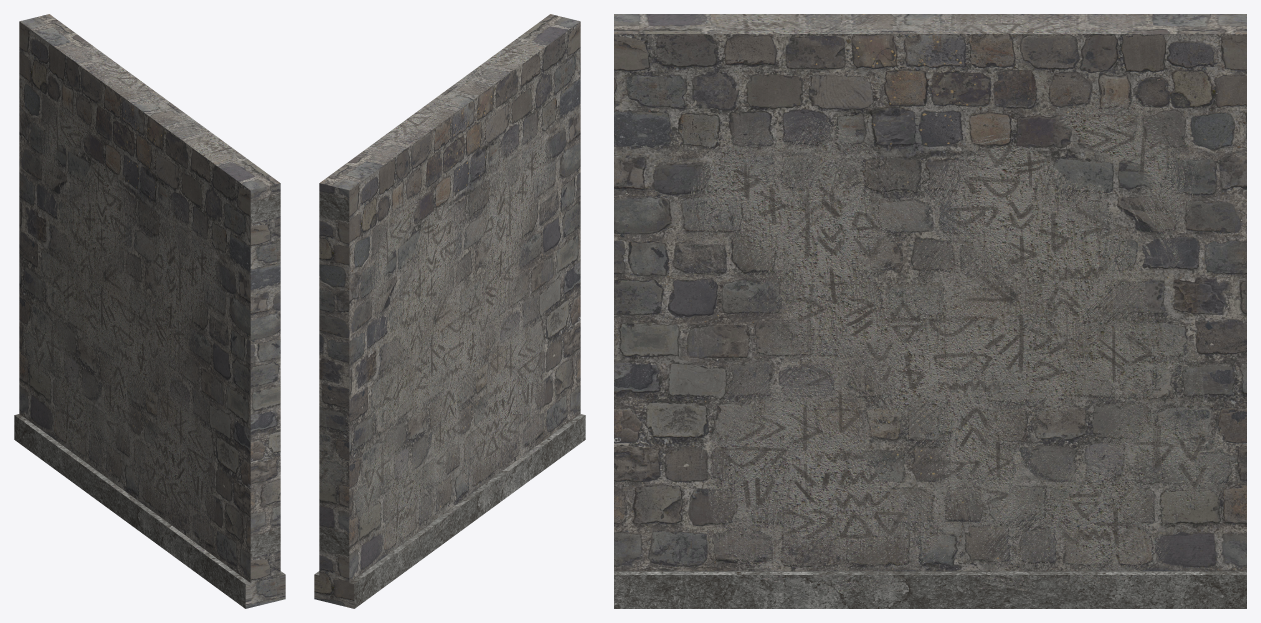
Rendered from Wall_5.fbx.
3 renders of one model, left to right at view 1: azimuth 30°, elevation 25°; view 2: azimuth 150°, elevation 25°; view 3: azimuth 270°, elevation 25°, orthographic. The views are drawn at different scales.
Visible parts, largest first — view 1: wall.002; view 2: wall.002; view 3: wall.002.
Boxes of the visible parts, x1,y1,x2,y2 form: wall.002: (14, 14, 285, 608); wall.002: (314, 14, 585, 608); wall.002: (614, 14, 1246, 608).
Bounding box in the file's own units: 40 × 399 × 400.
Materials: 1 (1 with a texture image).
